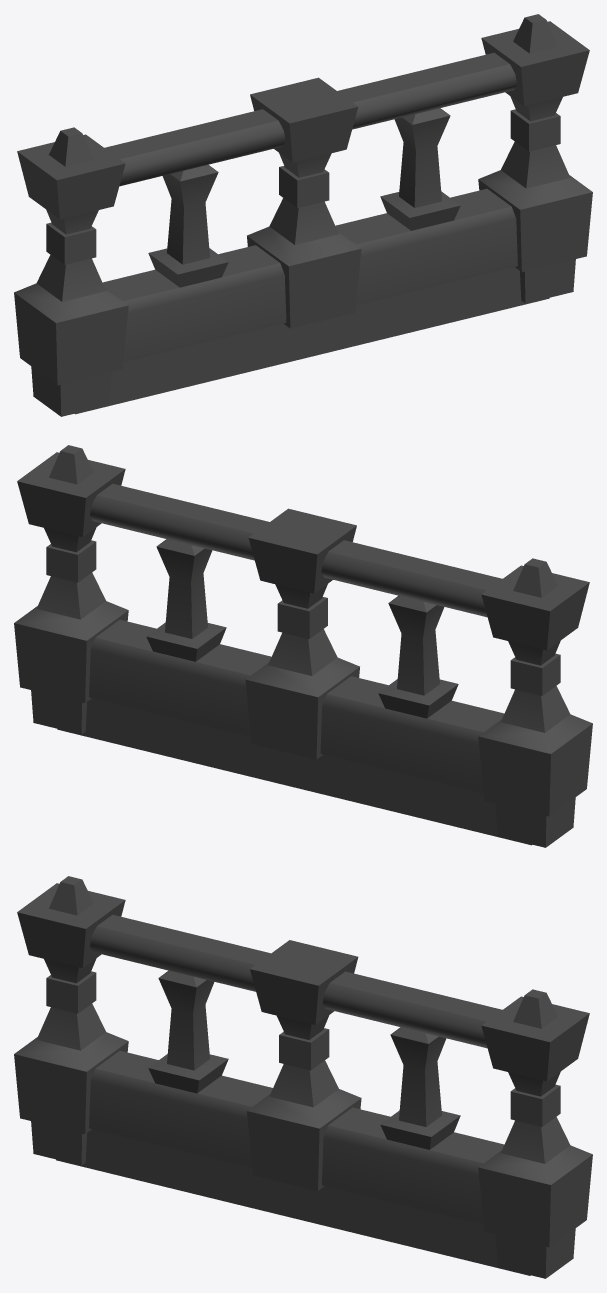
File: Railing_02v2_2Pillars.fbx
The picture shows the model from 3 angles, top to bottom: view 1: azimuth 30°, elevation 25°; view 2: azimuth 150°, elevation 25°; view 3: azimuth 330°, elevation 25°; orthographic projection.
Parts seen in each view (by area): view 1: Railing_Short_2Pillars.002; view 2: Railing_Short_2Pillars.002; view 3: Railing_Short_2Pillars.002.
Boxes of the visible parts, left/top/right/bottom form: Railing_Short_2Pillars.002: left=14, top=14, right=592, bottom=416; Railing_Short_2Pillars.002: left=14, top=445, right=592, bottom=847; Railing_Short_2Pillars.002: left=14, top=876, right=592, bottom=1278.
Size of the model in its own units: 282 by 138 by 38.26.
